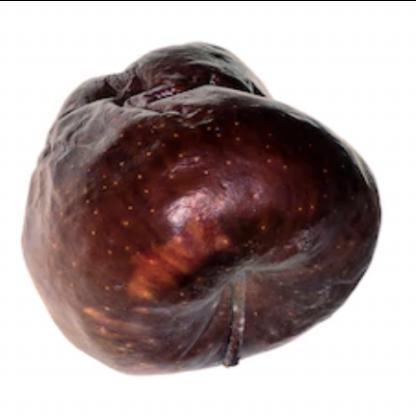Rotten Apple: (21, 43, 377, 372)
